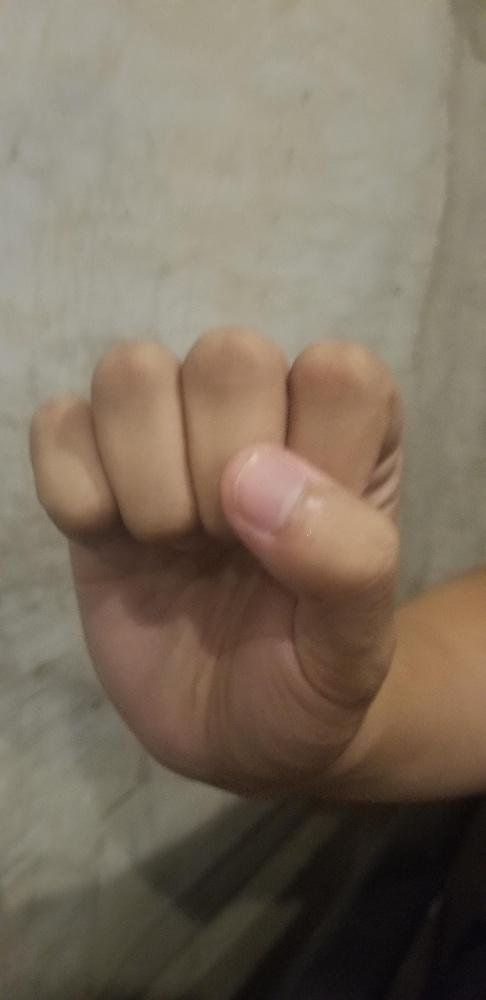s: (24, 325, 406, 779)
